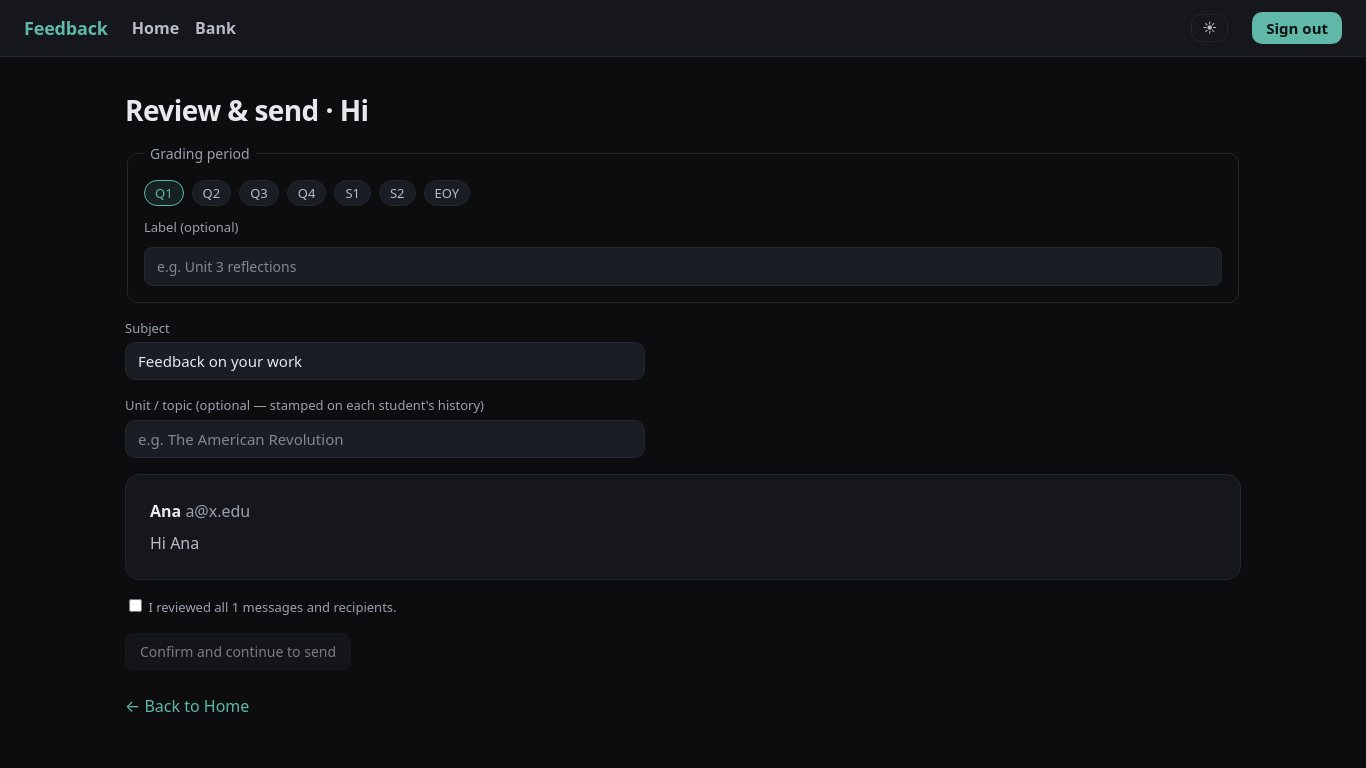
ReviewSendPage (history + grading period) › exposes an editable subject that defaults sensibly and surfaces in copy-paste
This screenshot has width=1366, height=768.
Check: the button "Q1" is shown, box [144,180,184,206]
Replace the text in the field labelled "Subject" with "Q1 progress notes" at (385, 361), box [125,342,645,380]
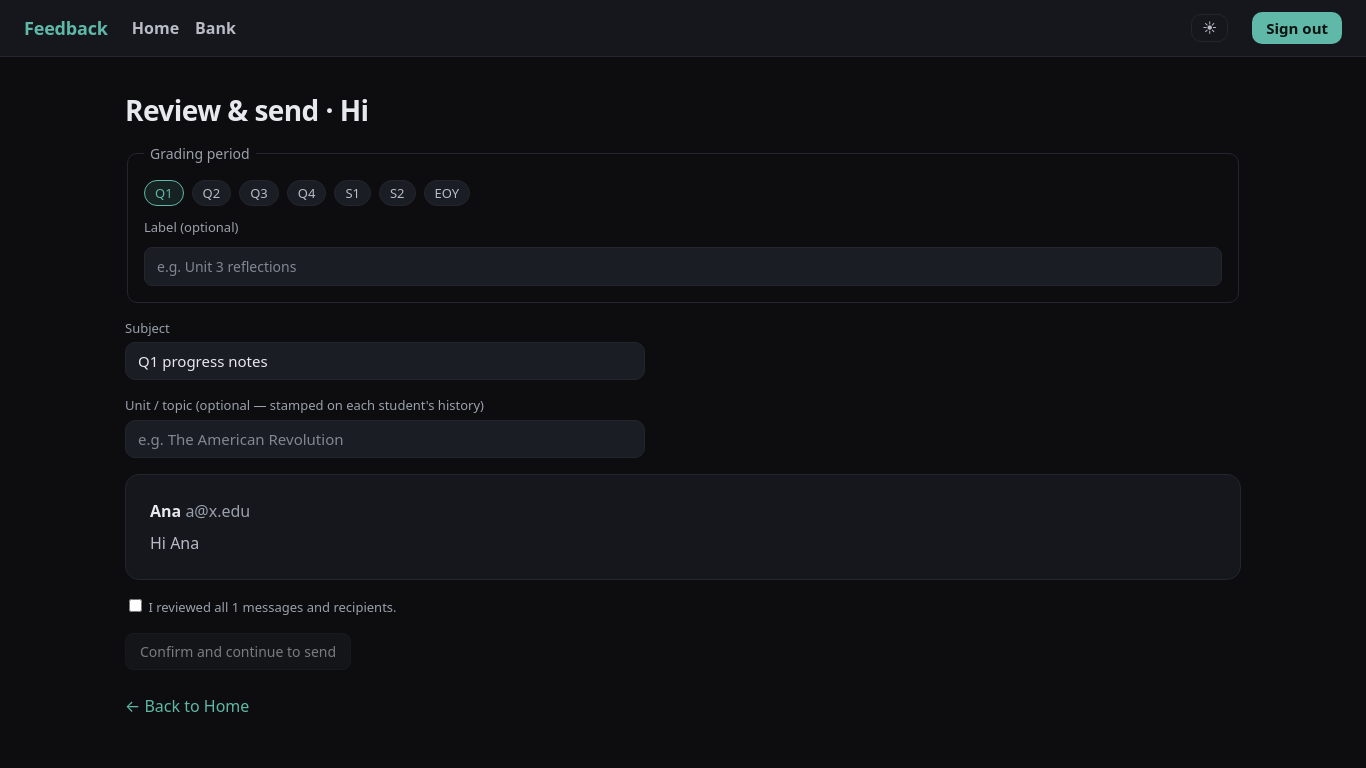
Click the checkbox labelled "I reviewed all 1 messages and recipients.".
click(136, 605)  # box [129,598,142,612]
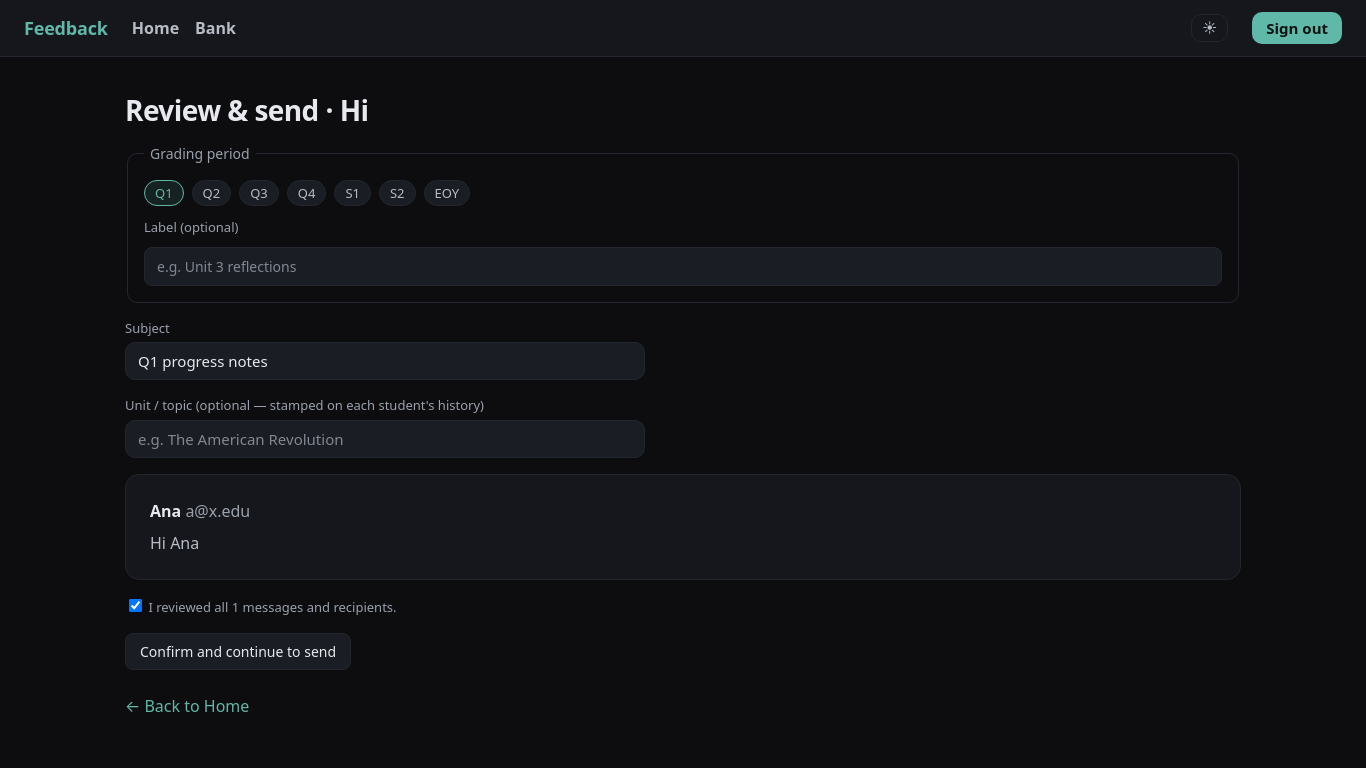
Click the button "Confirm and continue to send".
click(238, 652)  # box [125,633,351,670]
(page scrolled)
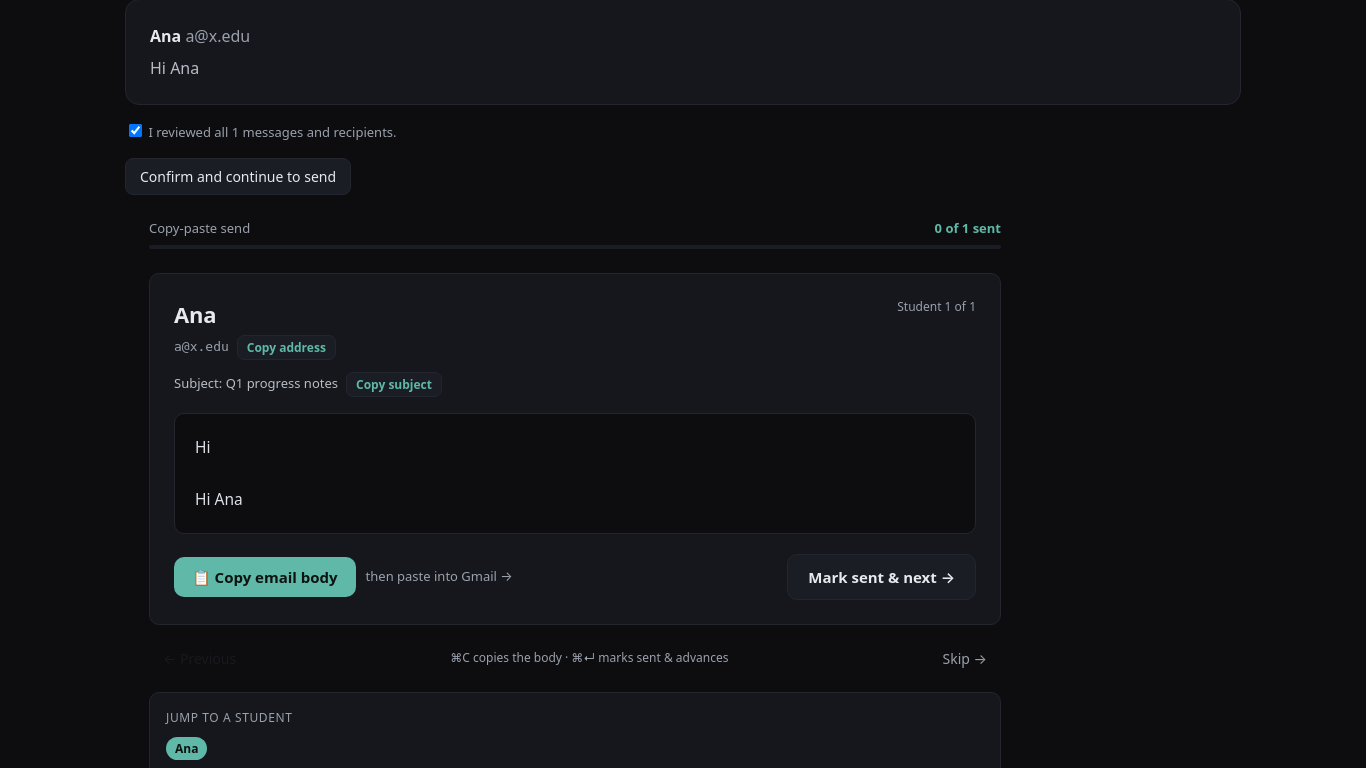
Check: the text "Subject: Q1 progress notes" is shown, box [174,374,338,394]
